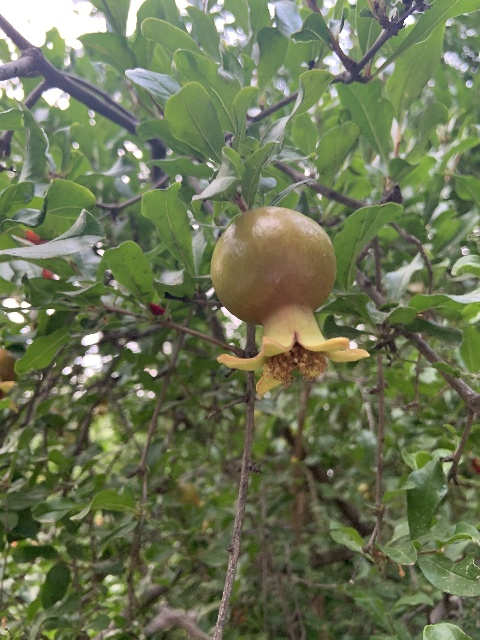early-fruit: (210, 205, 371, 398)
